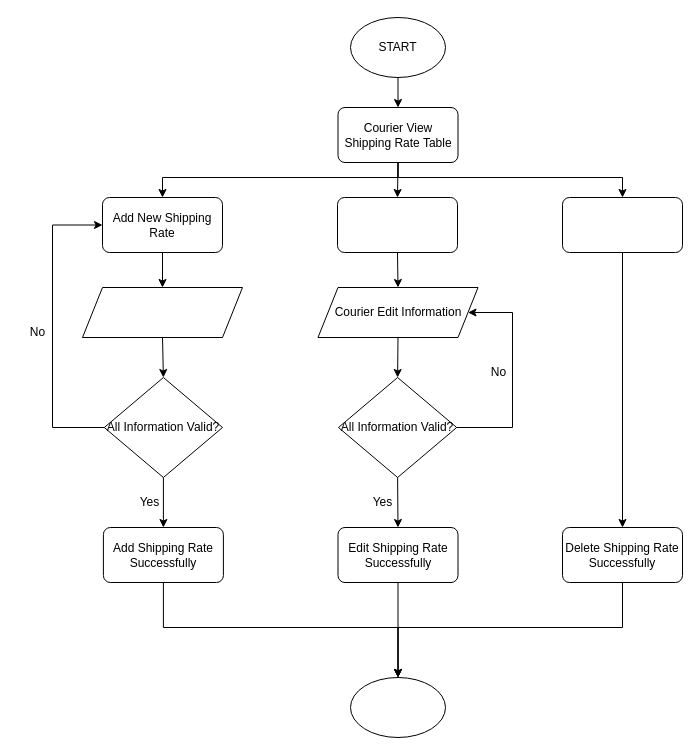
This 700x755 diagram has some shape labels left out. Here are the shapes that lost their labels. From the top down, the centre of each, then its label:
the point at 397,224: Edit Shipping Rate
the point at 622,224: Delete Shipping Rate
the point at 162,312: Courier Input Information
the point at 398,707: END
